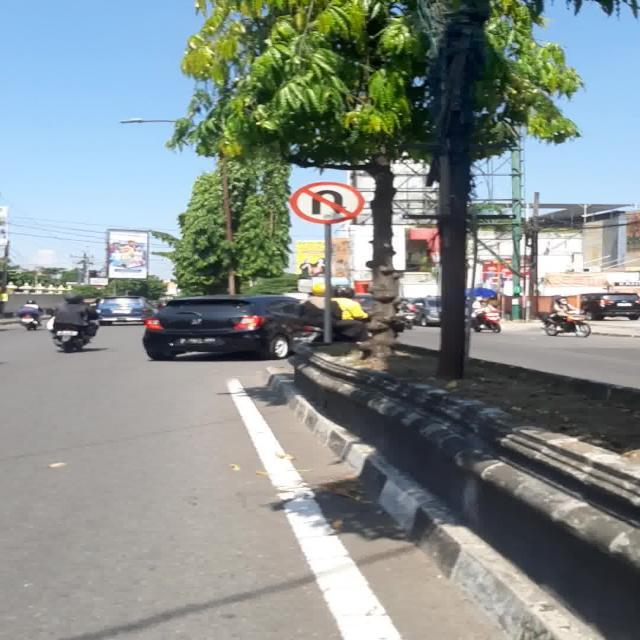Dilarang Putar Balik: (290, 182, 364, 224)
